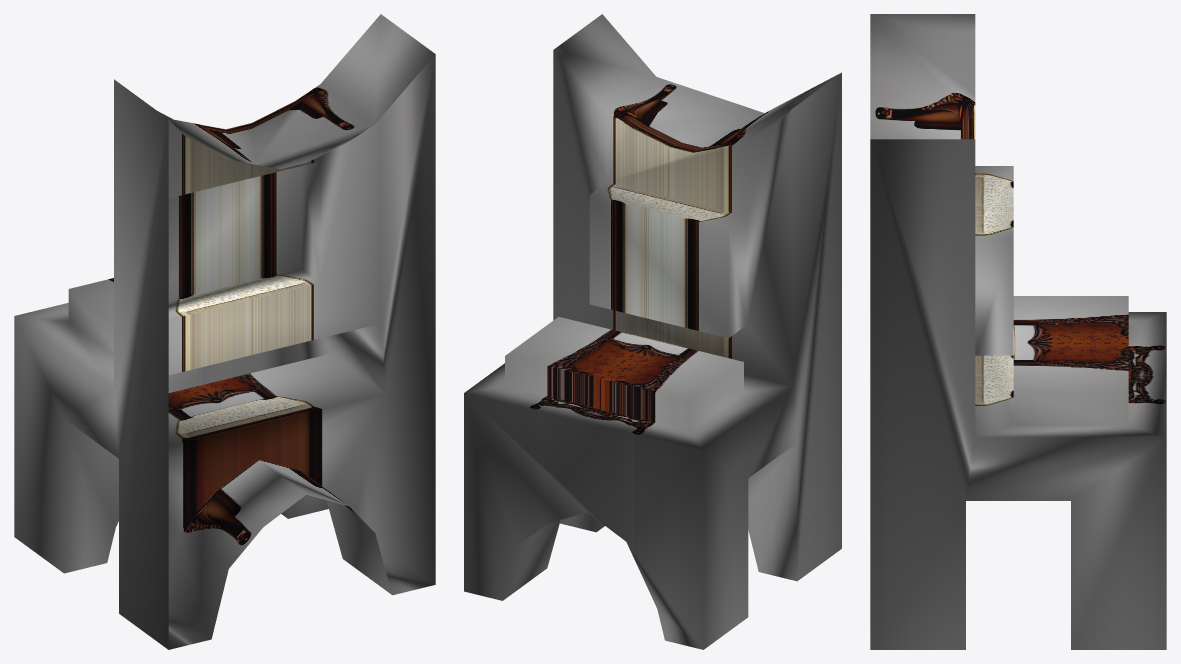
File: chair_11_21__09_14_07_textured.obj
The picture shows the model from 3 angles, left to right: view 1: azimuth 30°, elevation 25°; view 2: azimuth 150°, elevation 25°; view 3: azimuth 270°, elevation 25°; orthographic projection. The views are drawn at different scales.
Size of the model in its own units: 0.5 by 0.95 by 0.5.
1 material, 1 textured.
